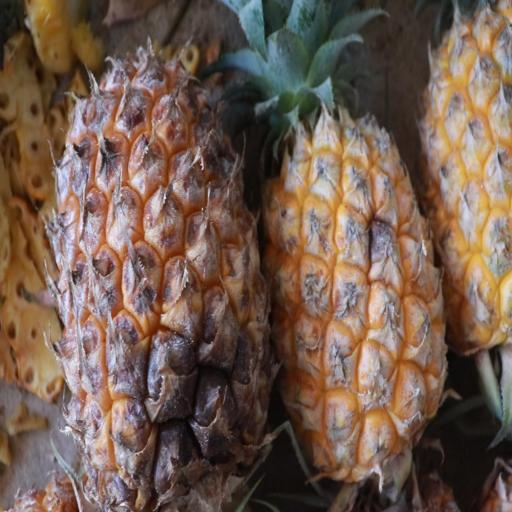Pineapple - v8 v1: (46, 37, 274, 512), (256, 39, 447, 500), (415, 2, 512, 378)
